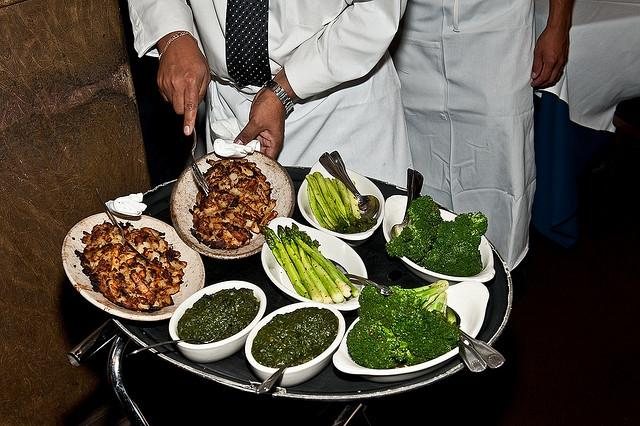asparagus: (285, 226, 352, 298), (260, 225, 312, 300), (300, 232, 360, 297), (278, 224, 324, 303), (304, 174, 346, 234), (298, 244, 334, 303), (313, 172, 349, 228), (310, 256, 344, 303), (307, 183, 337, 232), (335, 178, 358, 226), (324, 178, 349, 221), (346, 180, 368, 227), (331, 178, 344, 204)
broccoli: (392, 292, 461, 361), (358, 279, 450, 328), (346, 320, 409, 369), (384, 227, 426, 262), (436, 221, 481, 250), (408, 194, 442, 226)
